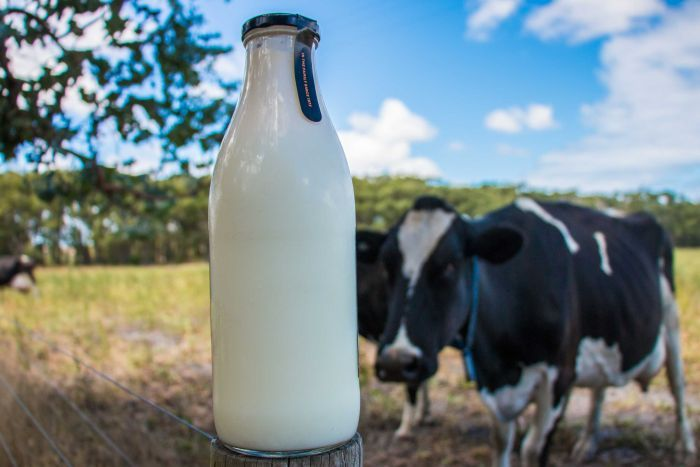glass of milk: (203, 29, 370, 449)
